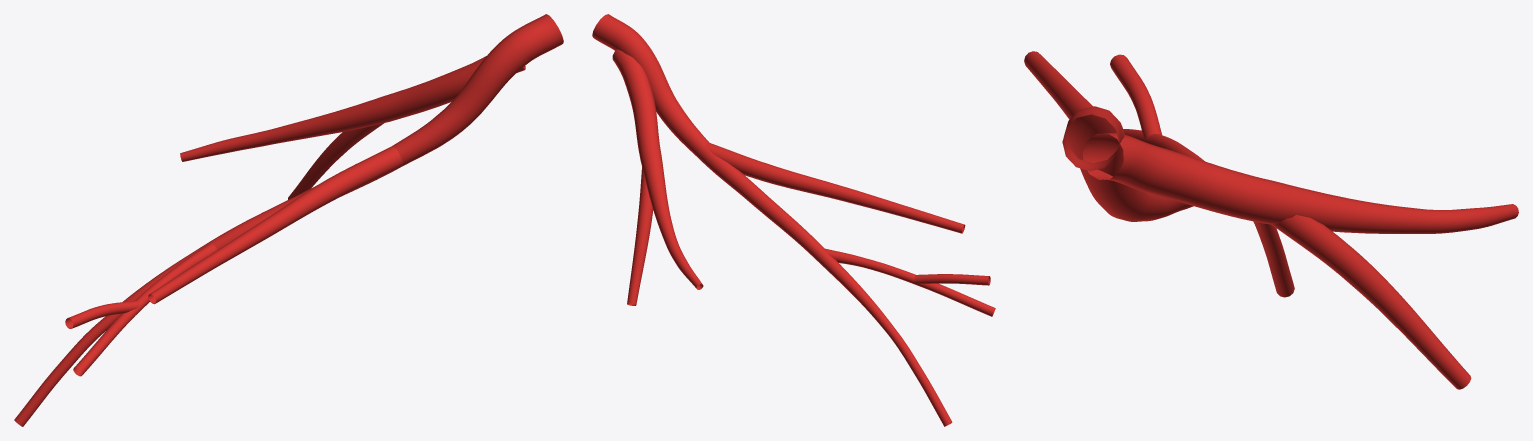
File: circulatorio-superior-basal-vein-of-right-lung.glb
The picture shows the model from 3 angles, left to right: view 1: azimuth 30°, elevation 25°; view 2: azimuth 150°, elevation 25°; view 3: azimuth 270°, elevation 25°; orthographic projection. The views are drawn at different scales.
Parts seen in each view (by area): view 1: Superior basal vein of right lung; view 2: Superior basal vein of right lung; view 3: Superior basal vein of right lung.
Part boxes in pixels (box(x1,y1,x2,y2)): Superior basal vein of right lung: box(14, 14, 563, 426); Superior basal vein of right lung: box(592, 14, 995, 426); Superior basal vein of right lung: box(1024, 51, 1518, 389).
Bounding box in the file's own units: 0.0978 × 0.0652 × 0.0519.
